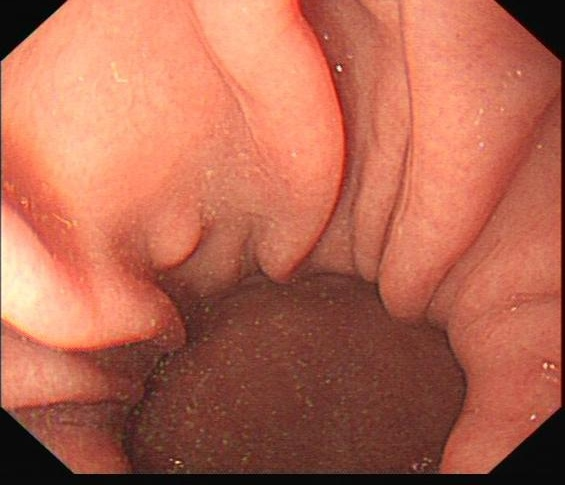Polyp: (145, 208, 204, 273)
